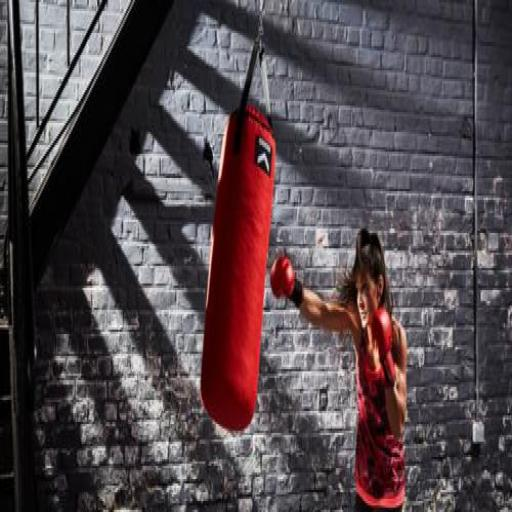boxing: (229, 178, 458, 512)
